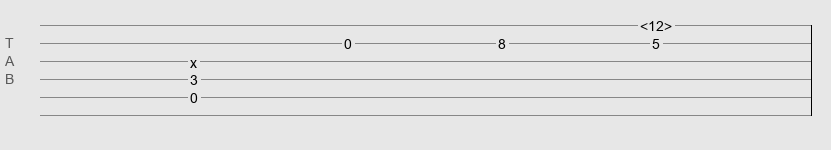0: (190, 90, 198, 100), (344, 36, 352, 46)
3: (190, 72, 198, 82)
5: (652, 36, 660, 46)
8: (498, 36, 506, 46)
harmonic: (640, 18, 672, 28)
x: (190, 55, 197, 63)
